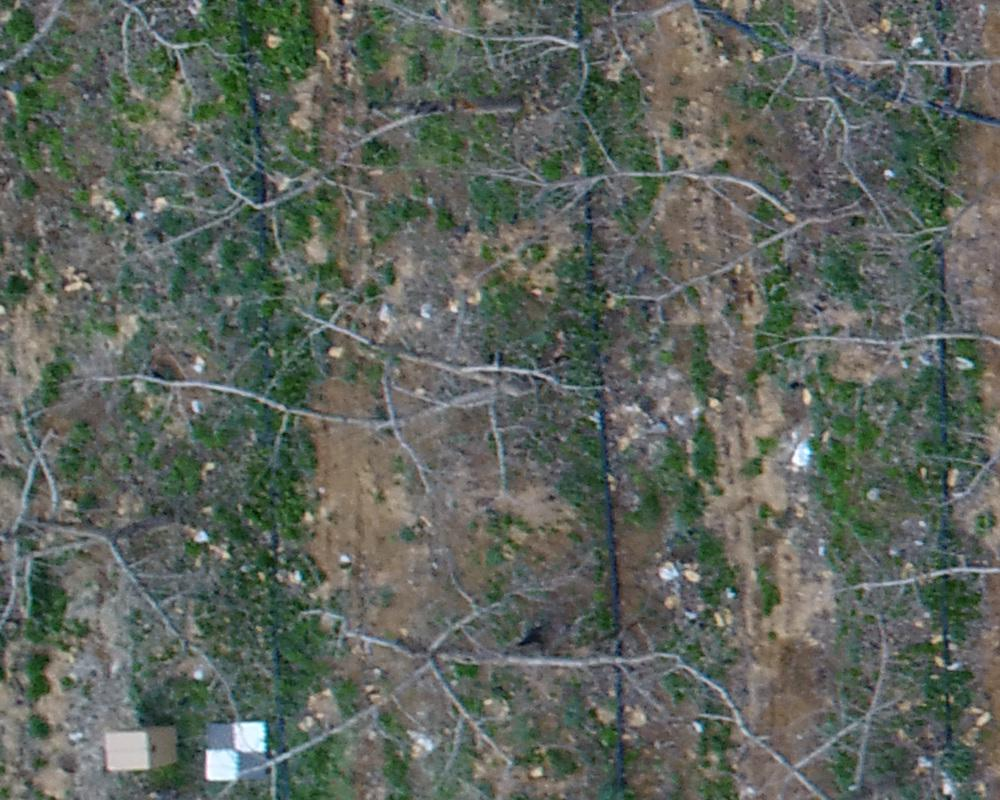apple: (200, 537, 790, 790), (65, 281, 636, 513), (616, 628, 990, 790)
